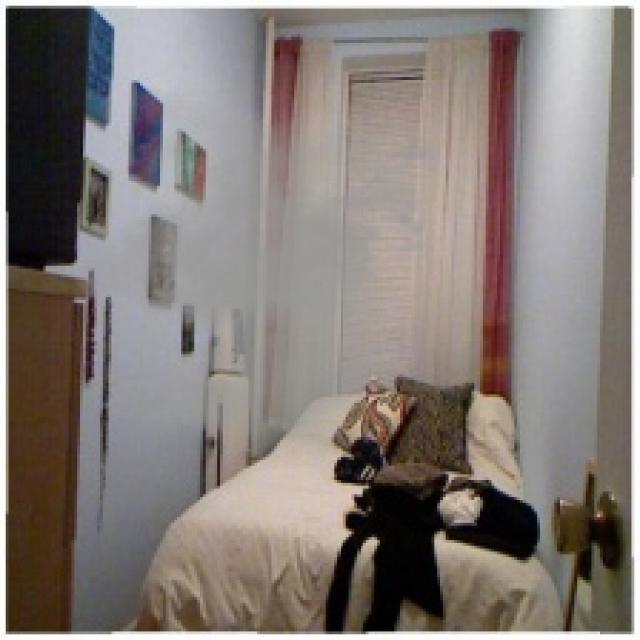Smoke: (59, 86, 454, 457)
